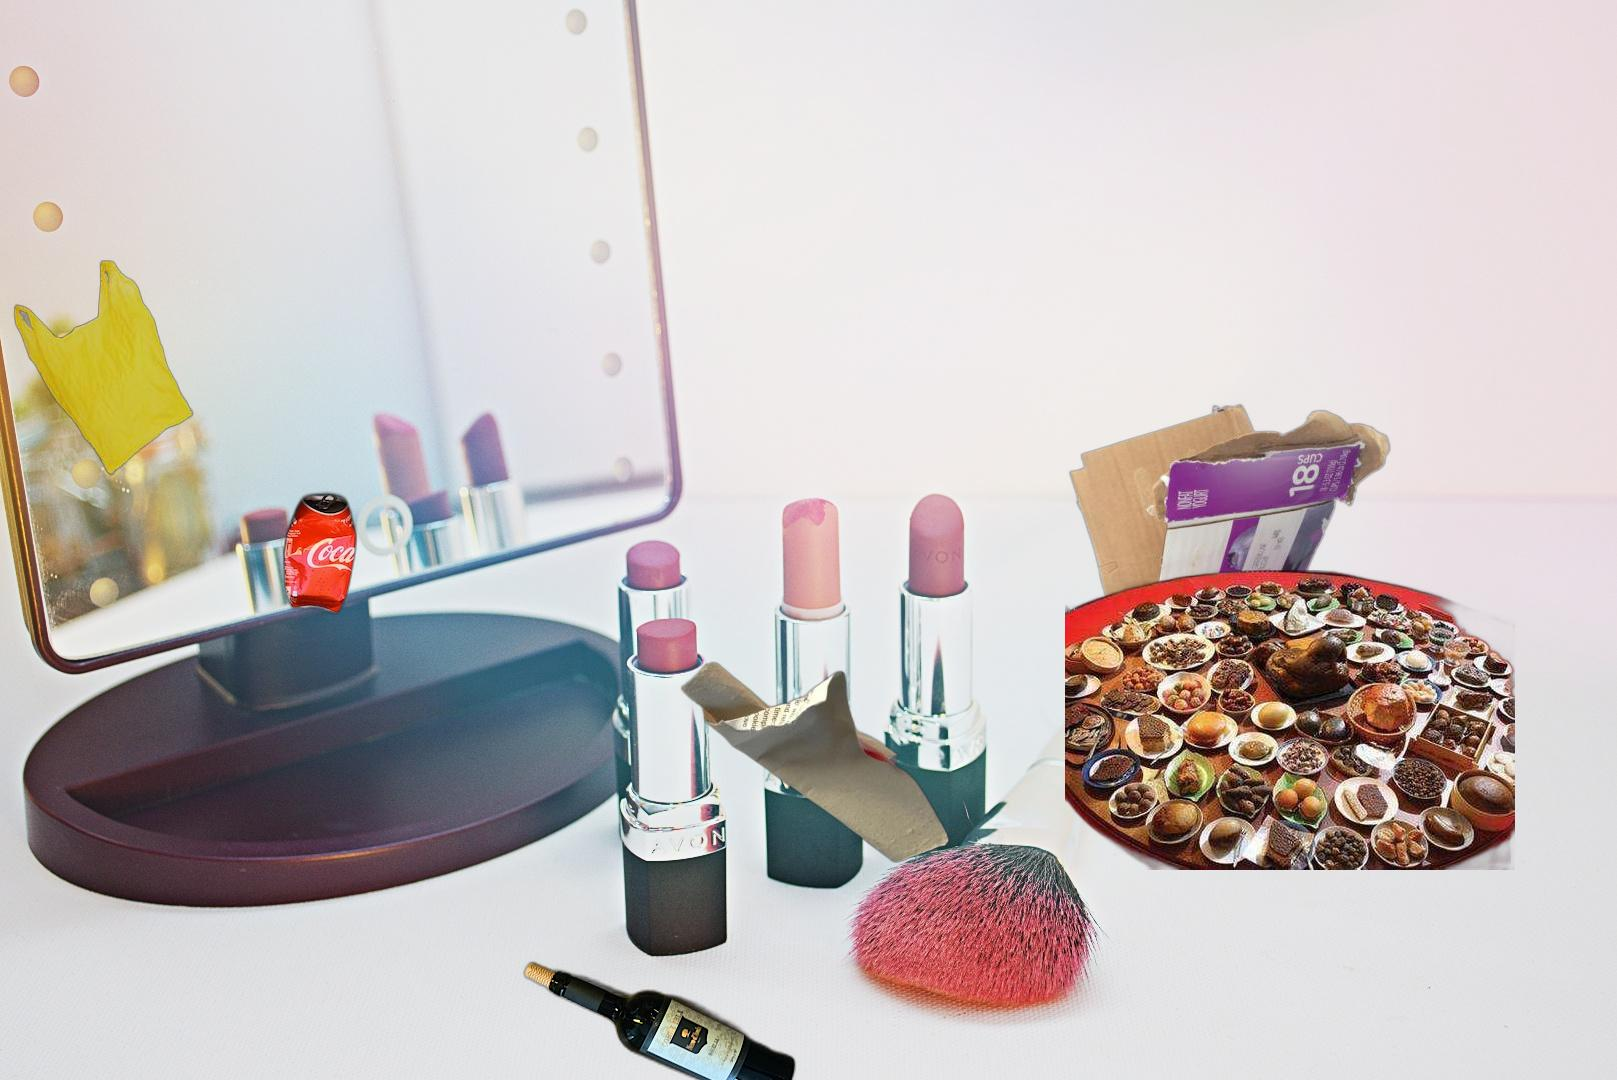biological: (1065, 570, 1515, 870)
glass: (521, 957, 799, 1080)
metal-cans: (280, 487, 361, 620)
paper: (678, 661, 954, 865)
plastic-bag: (12, 258, 194, 476)
trashbox-cardboard: (1065, 401, 1394, 752)
